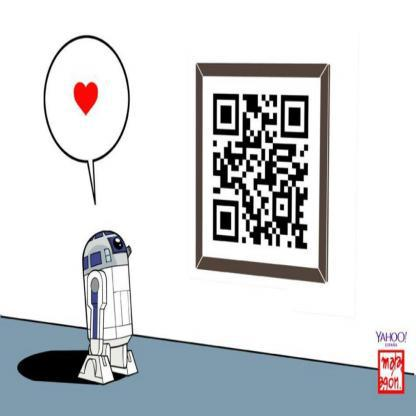Picture-frame: (197, 64, 330, 284)
